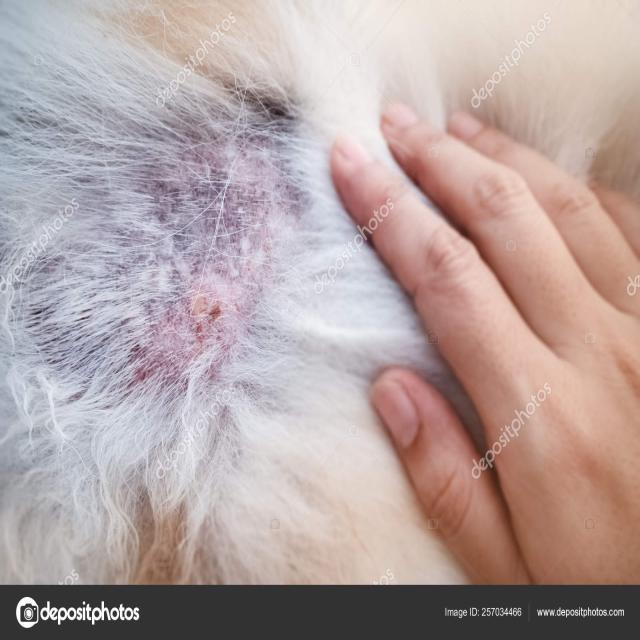allergic dermatitis: (70, 100, 288, 373)
